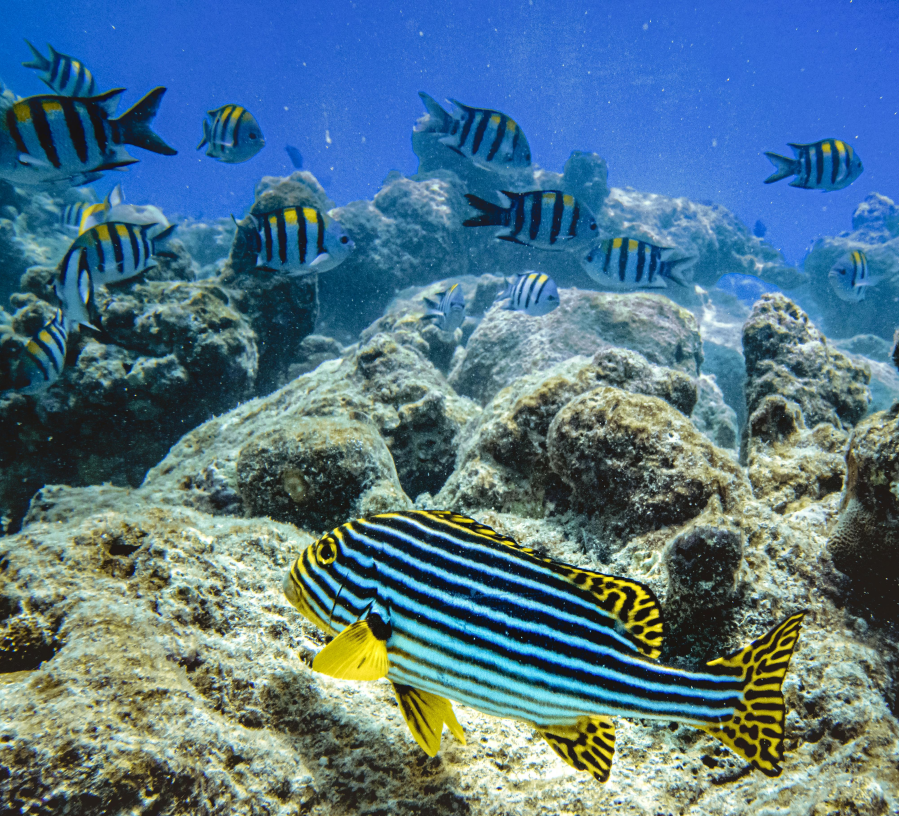fishLarge: (279, 506, 810, 782)
fishRound: (1, 86, 178, 195), (412, 89, 533, 177), (462, 188, 602, 254), (233, 205, 358, 277), (59, 219, 180, 286), (579, 238, 699, 292), (761, 138, 863, 194), (16, 305, 73, 398), (19, 38, 98, 101), (194, 105, 268, 165), (828, 237, 884, 305), (495, 270, 559, 316), (422, 285, 471, 336)
